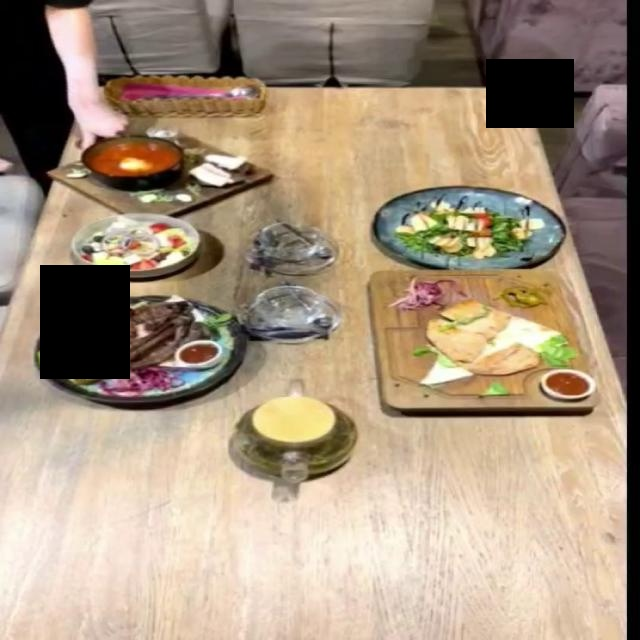meat: (358, 269, 599, 418), (35, 292, 250, 402)
salad: (374, 185, 568, 267), (70, 211, 201, 277)
soup: (44, 127, 274, 217)
tea: (230, 393, 359, 482)
